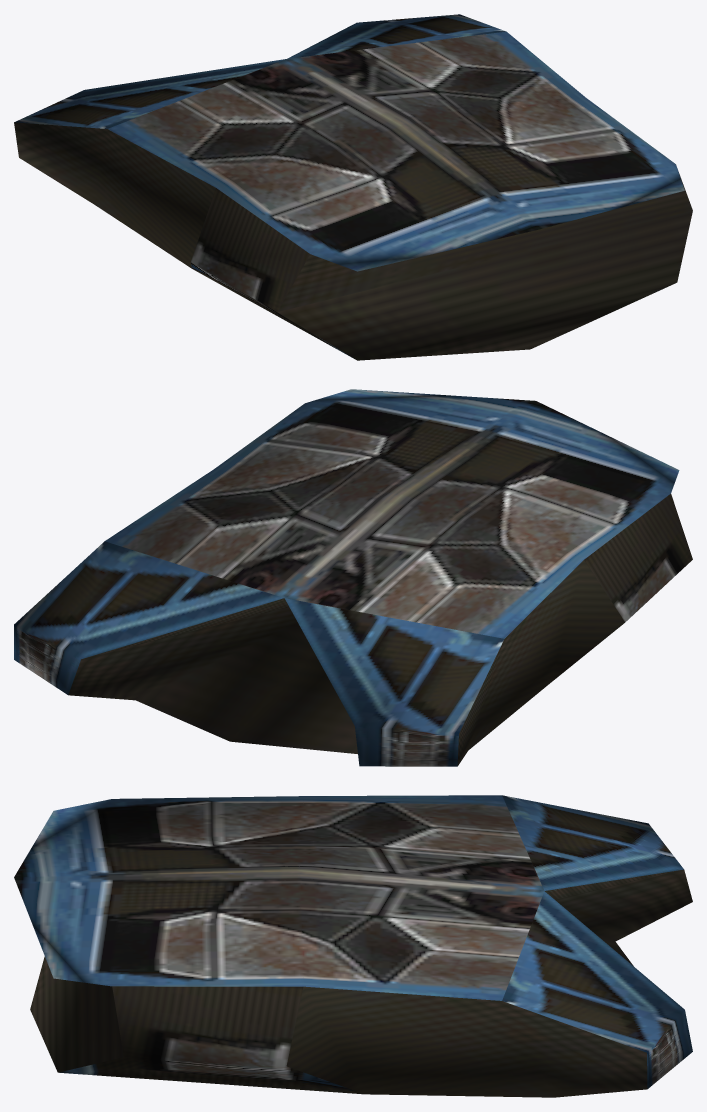
File: TorsoArmour5__LED.glb
3 renders of one model, top to bottom at view 1: azimuth 30°, elevation 25°; view 2: azimuth 150°, elevation 25°; view 3: azimuth 270°, elevation 25°, orthographic. The views are drawn at different scales.
Visible parts, largest first — view 1: TorsoArmour5; view 2: TorsoArmour5; view 3: TorsoArmour5.
Part boxes in pixels (bbox=[...]): TorsoArmour5: bbox=[14, 14, 692, 360]; TorsoArmour5: bbox=[14, 389, 692, 766]; TorsoArmour5: bbox=[14, 795, 692, 1097].
Bounding box in the file's own units: 20.33 × 6.01 × 25.43.
1 material, 1 textured.
